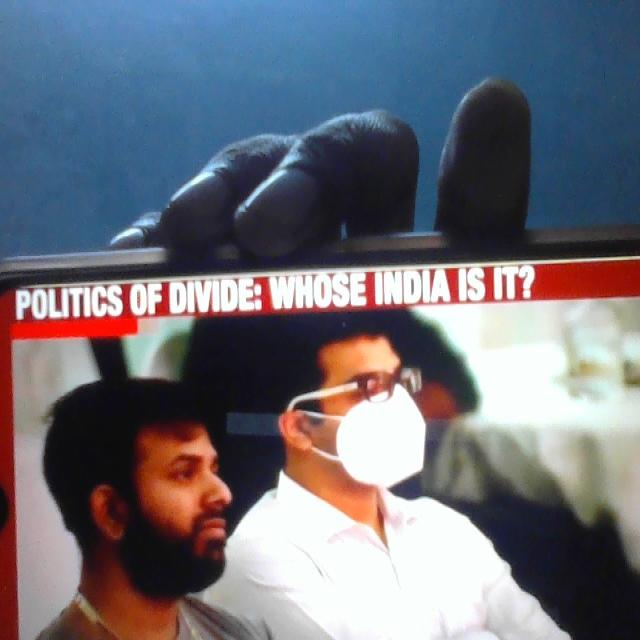fake: (117, 348, 241, 583)
